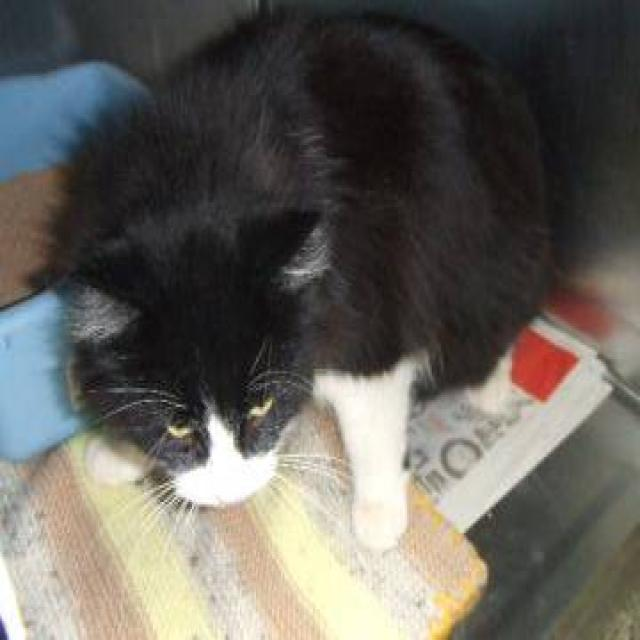cat: (48, 18, 568, 558)
